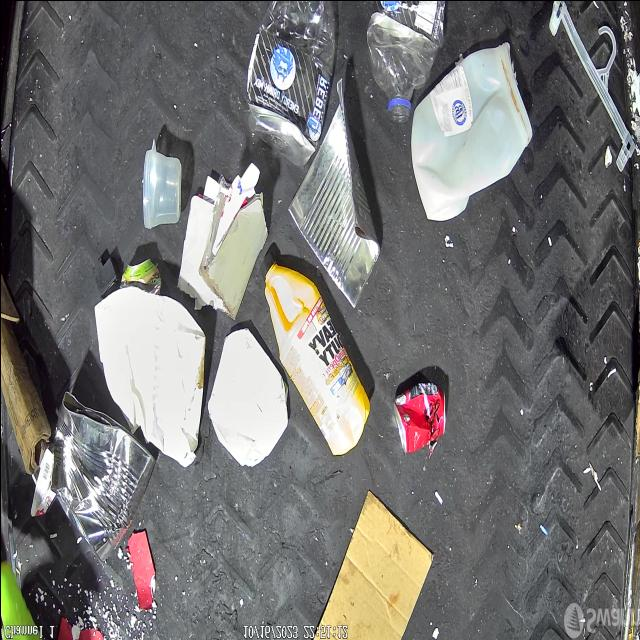can: (48, 392, 156, 564), (396, 378, 449, 456), (124, 258, 162, 290)
milk_jug: (410, 40, 532, 220)
non_white_jug: (259, 252, 366, 458)
plastic_bottle: (246, 0, 336, 168), (366, 0, 446, 122)
